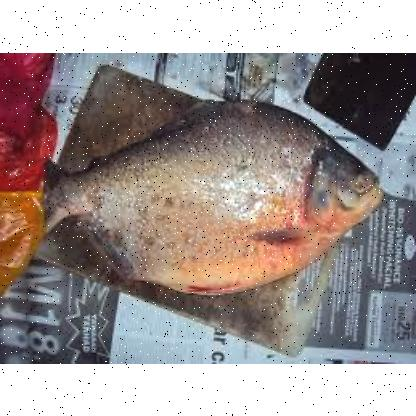ikan-pacu: (50, 88, 385, 290)
